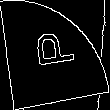P_W: (31, 33, 79, 77)
